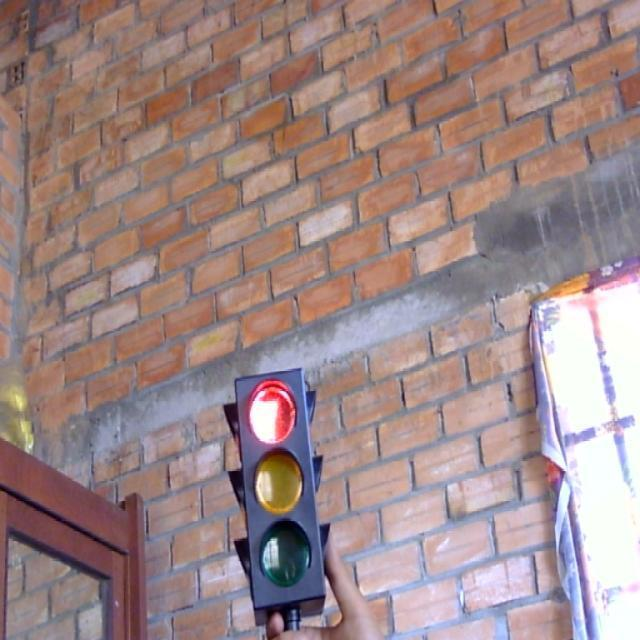red_light: (233, 370, 331, 616)
